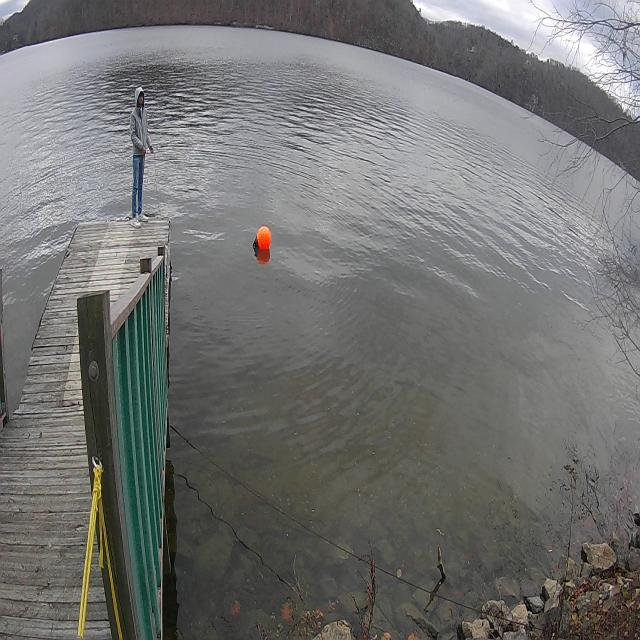Buoy: (250, 219, 274, 265)
